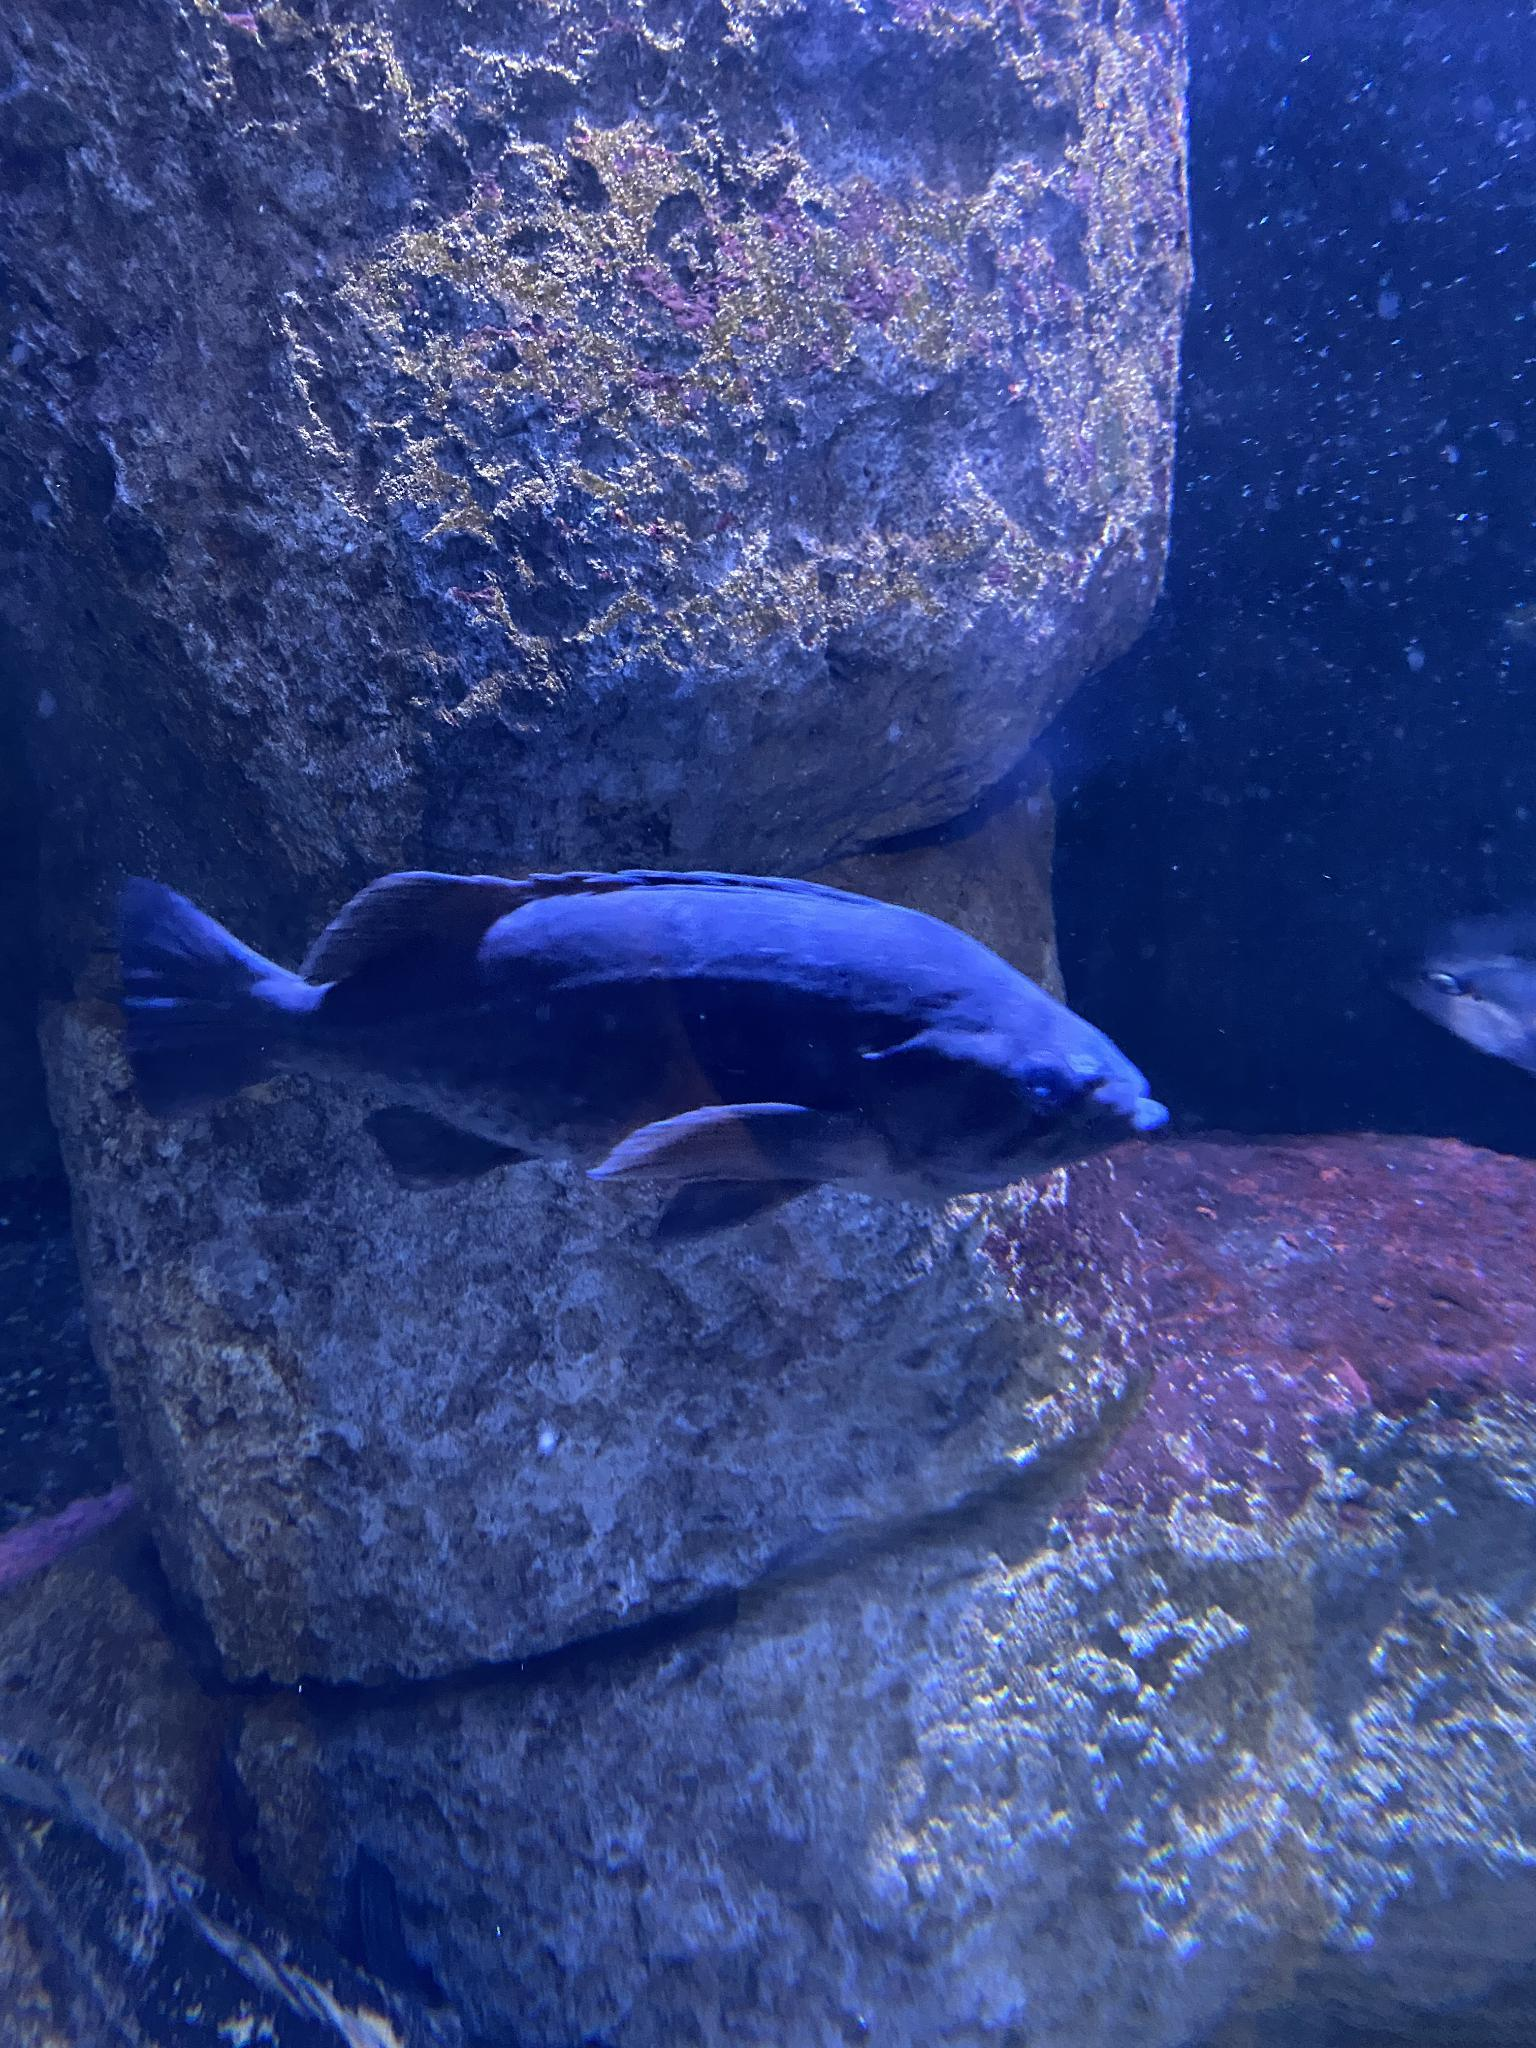fish: (113, 869, 1163, 1237), (1391, 905, 1534, 1072)
